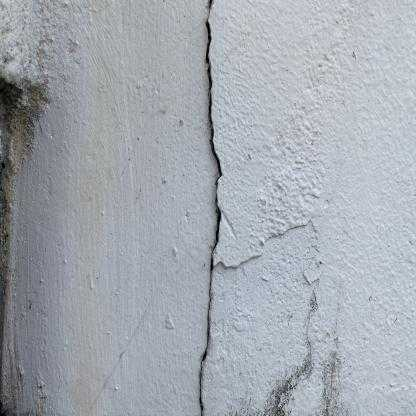crack: (199, 0, 222, 415)
